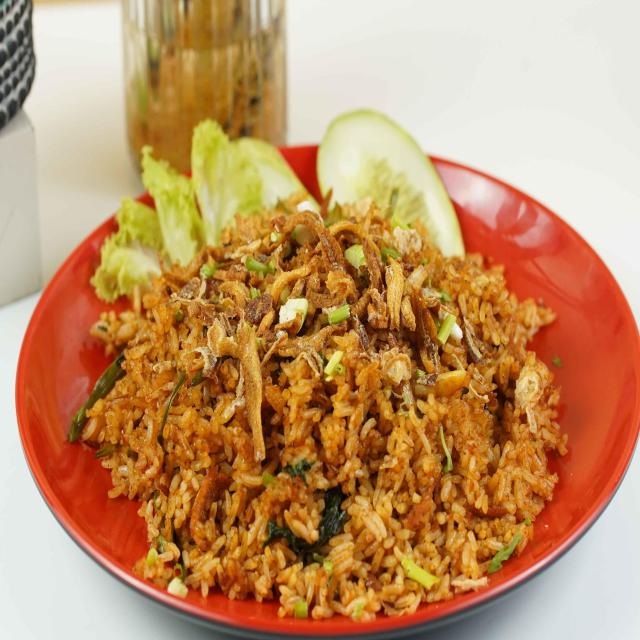Nasi Goreng: (71, 195, 569, 623)
